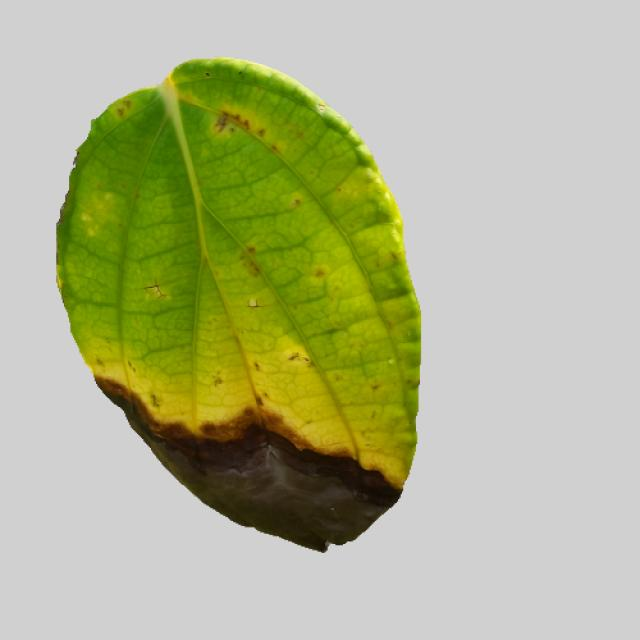leaf-blight: (46, 68, 435, 554)
